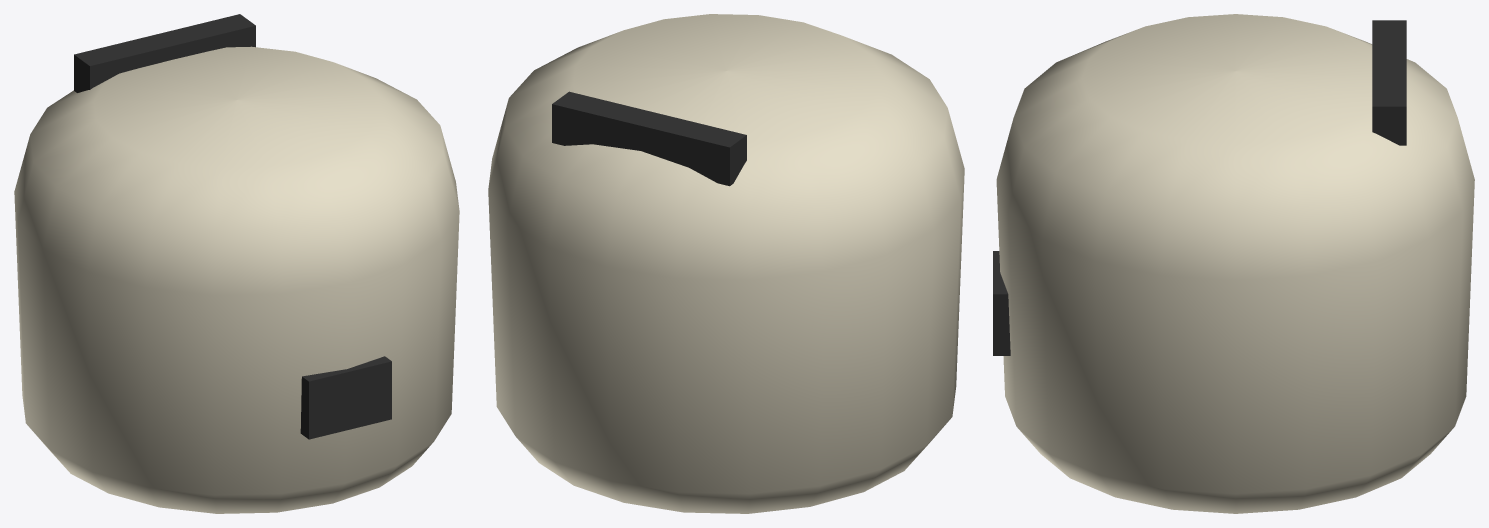
The model's file is RiceCooker.gltf.
The picture shows the model from 3 angles, left to right: view 1: azimuth 30°, elevation 25°; view 2: azimuth 150°, elevation 25°; view 3: azimuth 270°, elevation 25°; orthographic projection. The views are drawn at different scales.
Visible parts, largest first — view 1: A_RiceCooker; view 2: A_RiceCooker; view 3: A_RiceCooker.
Part boxes in pixels (x1,y1,x2,y2): A_RiceCooker: [14, 14, 459, 513]; A_RiceCooker: [488, 14, 964, 513]; A_RiceCooker: [993, 14, 1474, 513].
Size of the model in its own units: 0.28 by 0.235 by 0.282.
